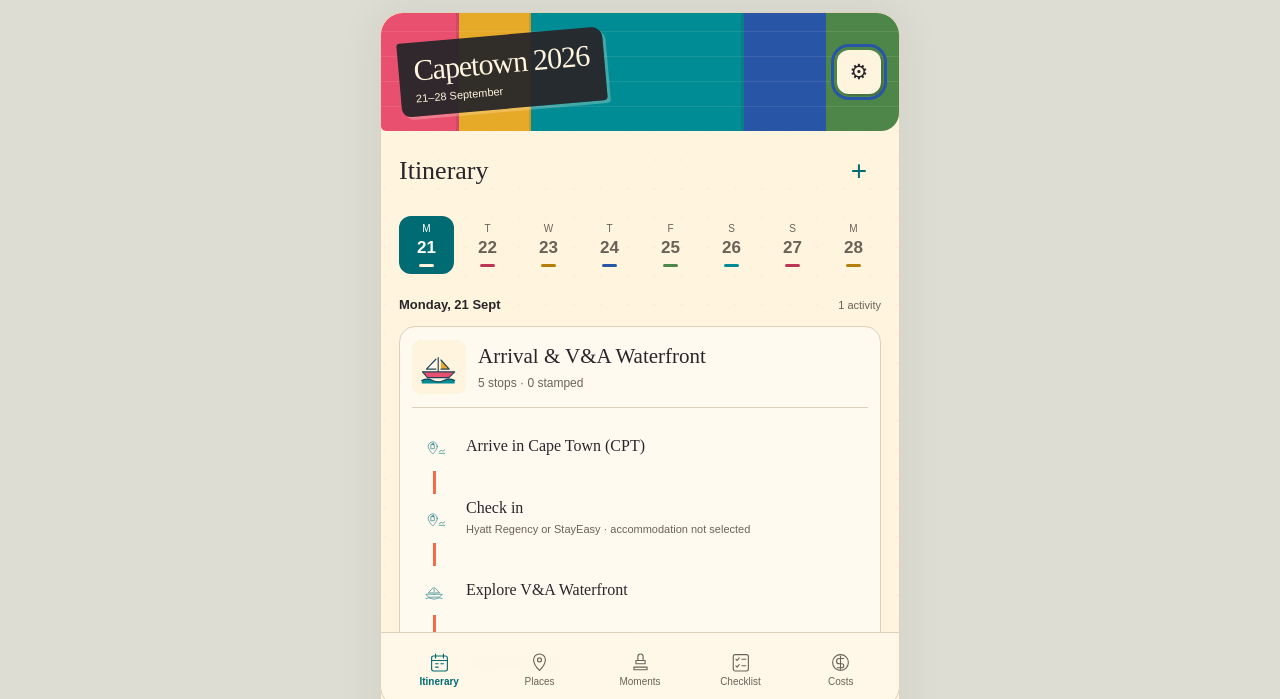
Test: whole-app navigation and settings › returns focus to the settings button after Escape
Expected: the heading "Capetown 2026" is shown, [412,40,590,86]
Click the button named "Open settings" at (859, 72), box [837,50,881,94]
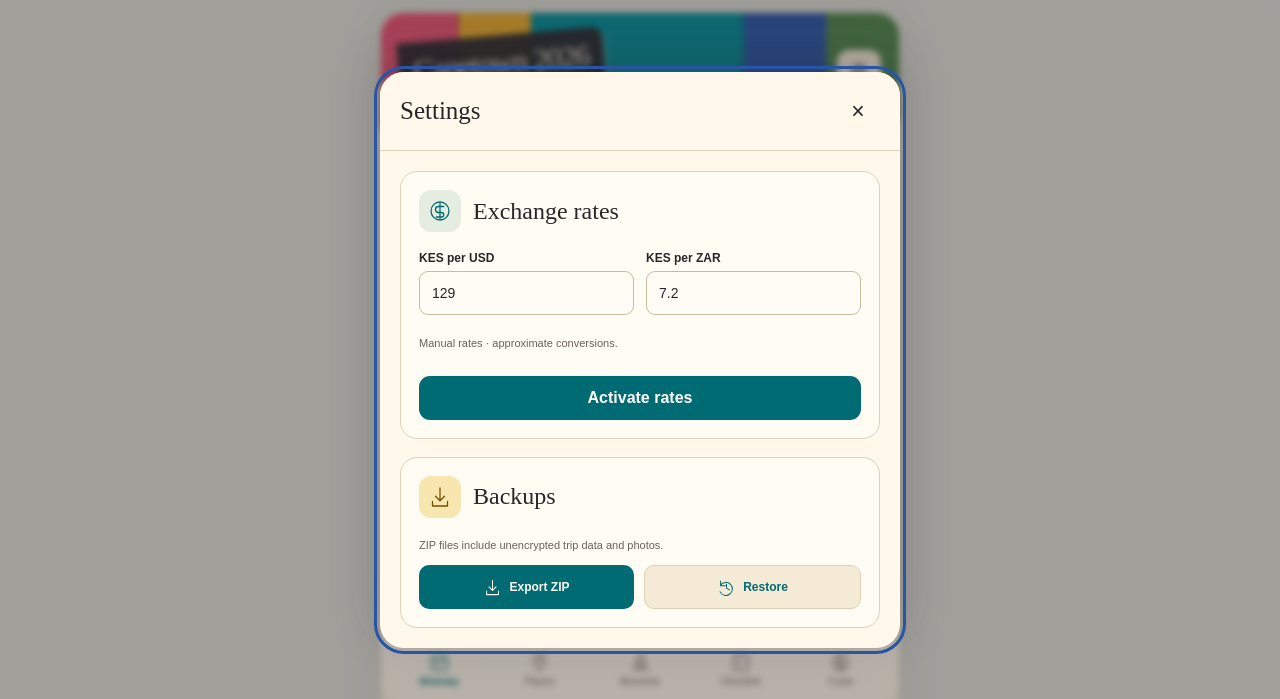
Press Escape
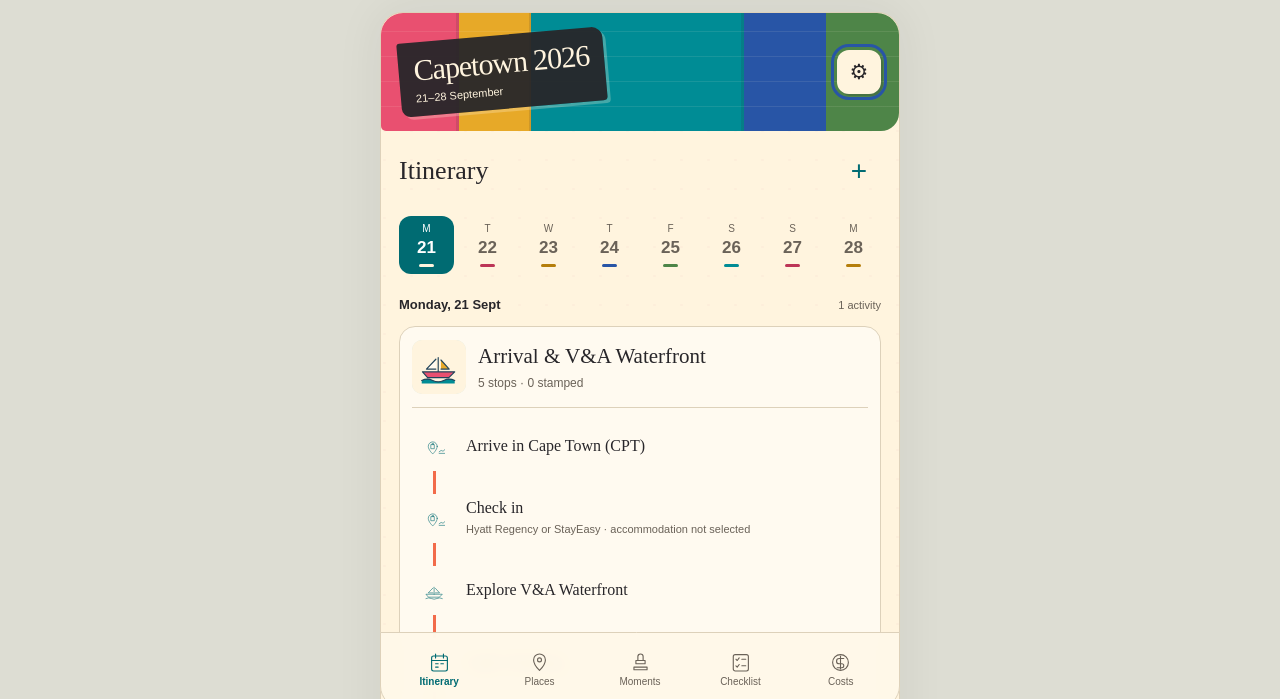
Now the dialog is gone
